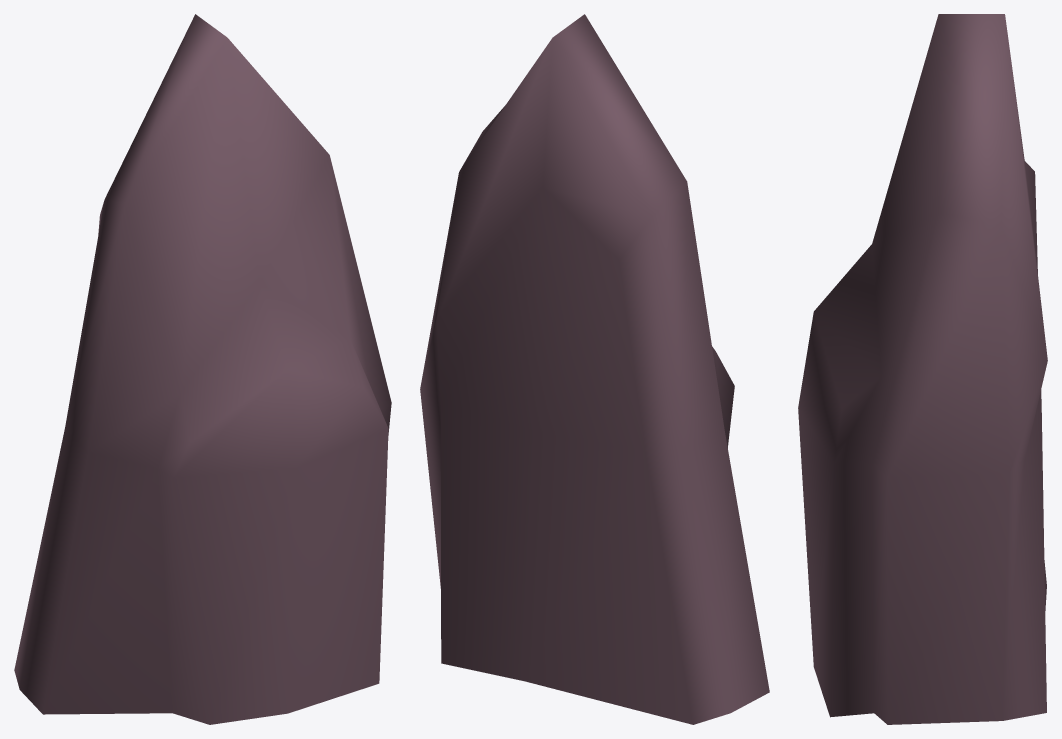
The model's file is LevelRock1.fbx.
3 views of the same model, side by side, from view 1: azimuth 30°, elevation 25°; view 2: azimuth 150°, elevation 25°; view 3: azimuth 270°, elevation 25° (orthographic). The views are drawn at different scales.
Parts seen in each view (by area): view 1: shitrock1; view 2: shitrock1; view 3: shitrock1.
Boxes of the visible parts, x1,y1,x2,y2 form: shitrock1: [14, 14, 391, 724]; shitrock1: [420, 14, 769, 724]; shitrock1: [798, 14, 1047, 724].
Size of the model in its own units: 1613 by 3005 by 1041.
